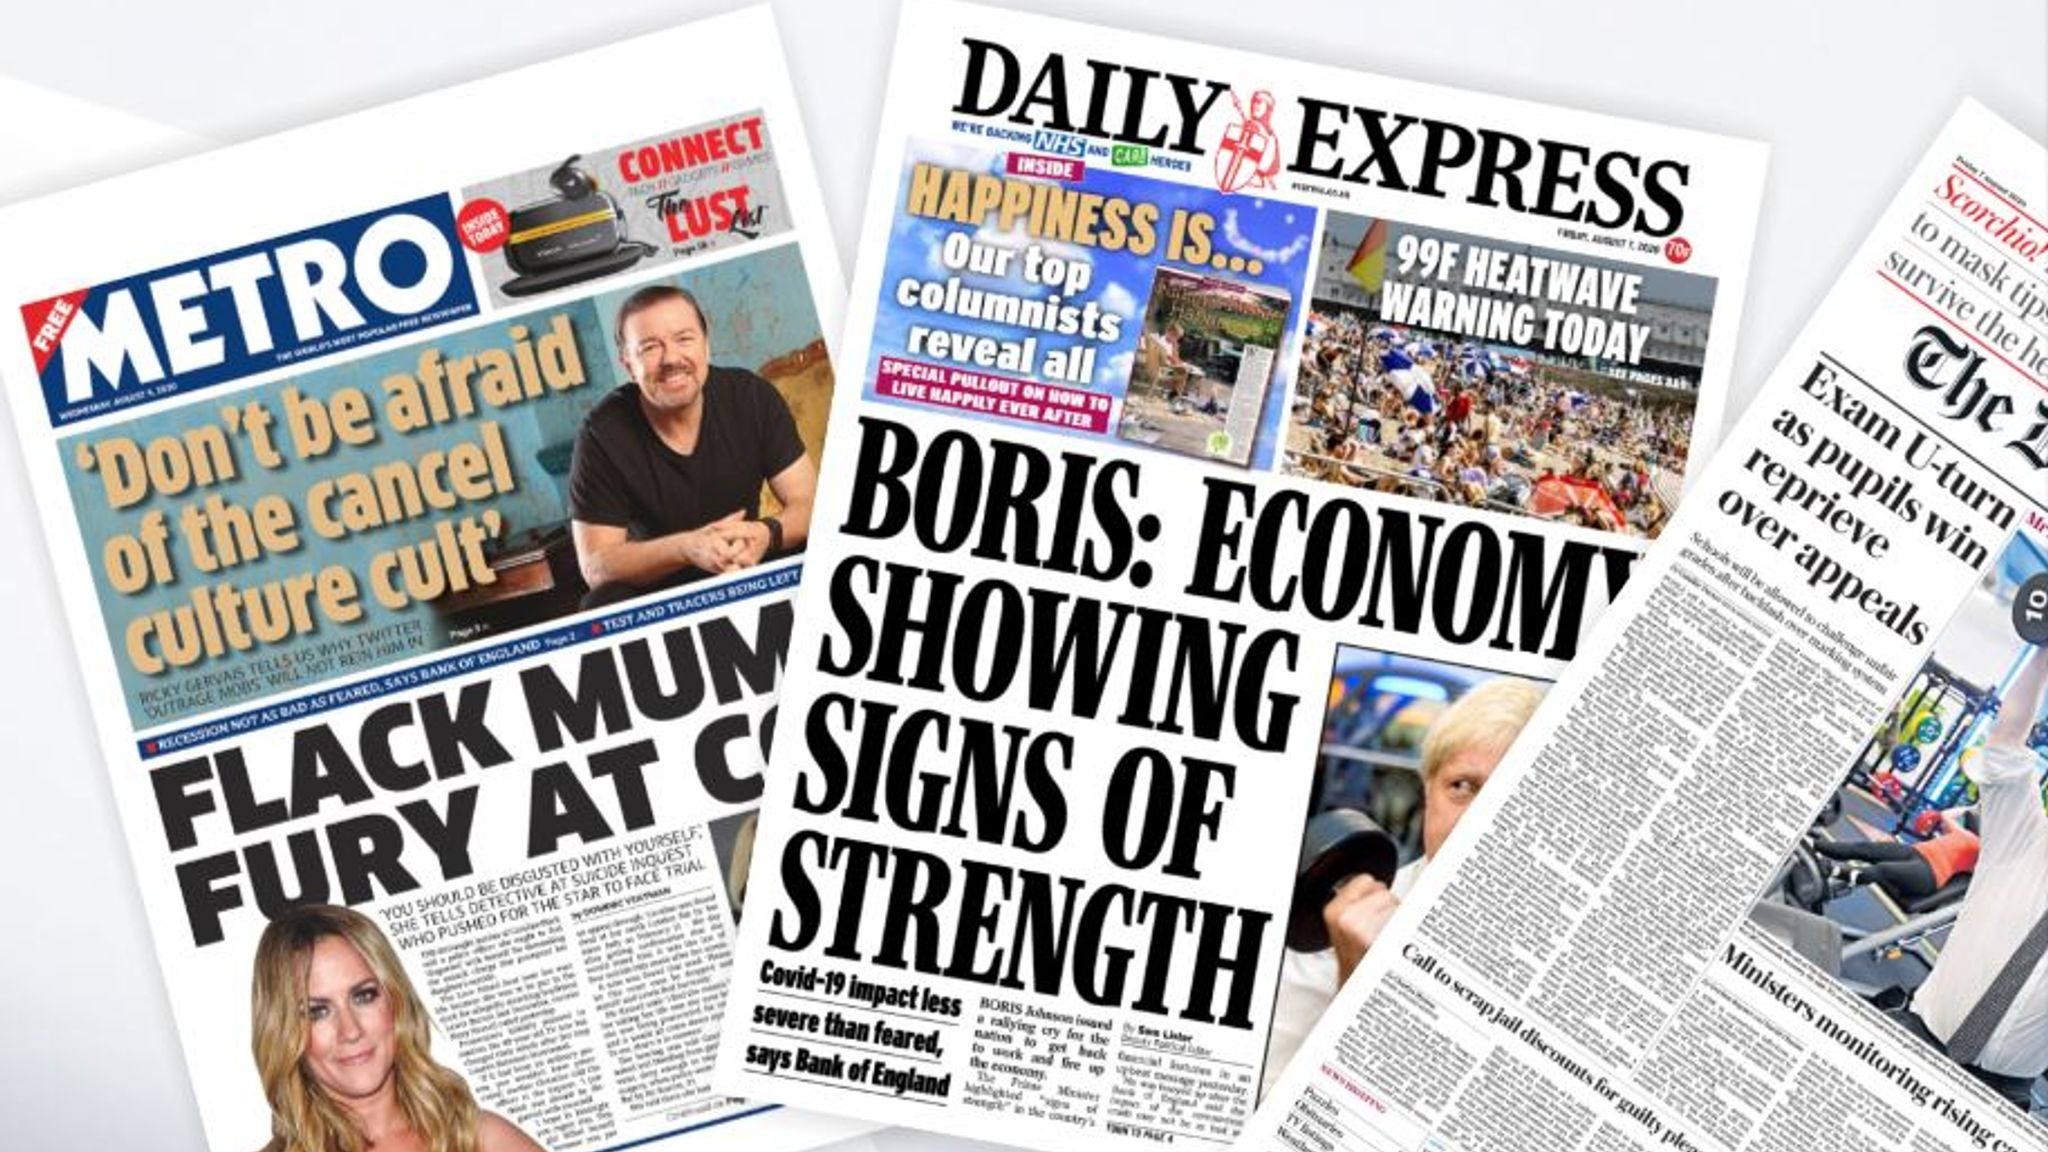news_paper: (629, 6, 1836, 1152), (4, 1, 1084, 1152), (1172, 46, 2048, 1141)
